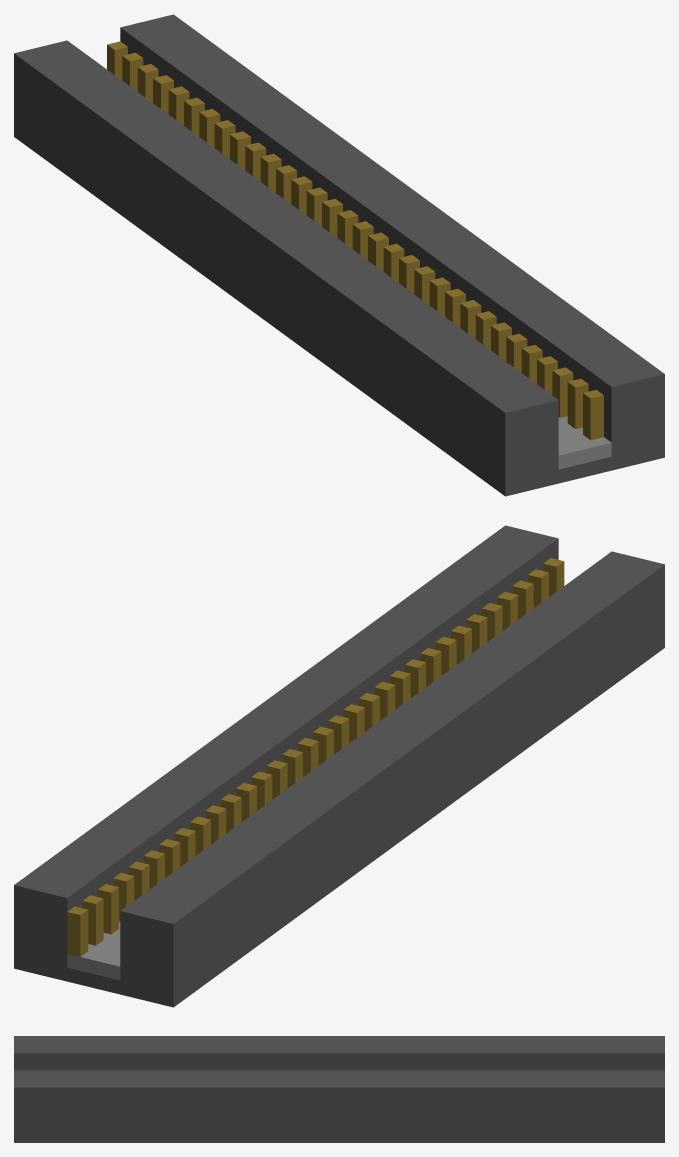
Rendered from RAM.fbx.
3 renders of one model, top to bottom at view 1: azimuth 30°, elevation 25°; view 2: azimuth 150°, elevation 25°; view 3: azimuth 270°, elevation 25°, orthographic. The views are drawn at different scales.
Parts seen in each view (by area): view 1: RAM; view 2: RAM; view 3: RAM.
Part boxes in pixels (bbox=[...]): RAM: bbox=[14, 14, 664, 496]; RAM: bbox=[14, 525, 664, 1007]; RAM: bbox=[14, 1036, 664, 1142].
Bounding box in the file's own units: 1.2 × 0.6 × 6.4.
Materials: 1 (1 with a texture image).
